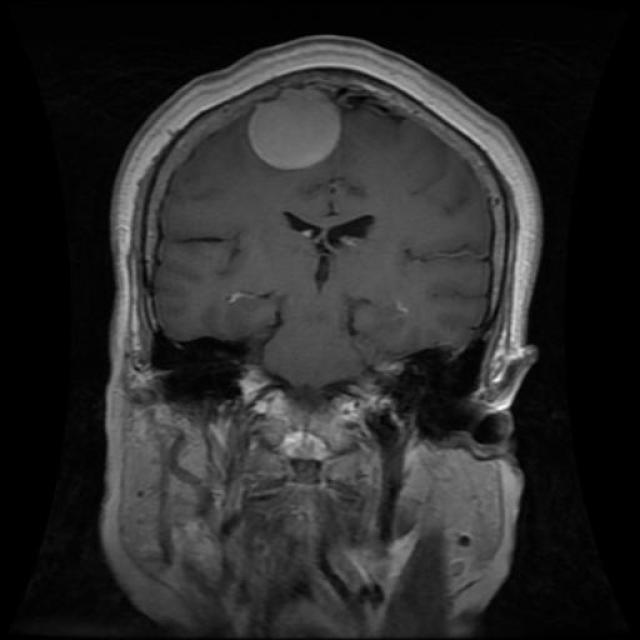meningioma: (248, 89, 342, 170)
